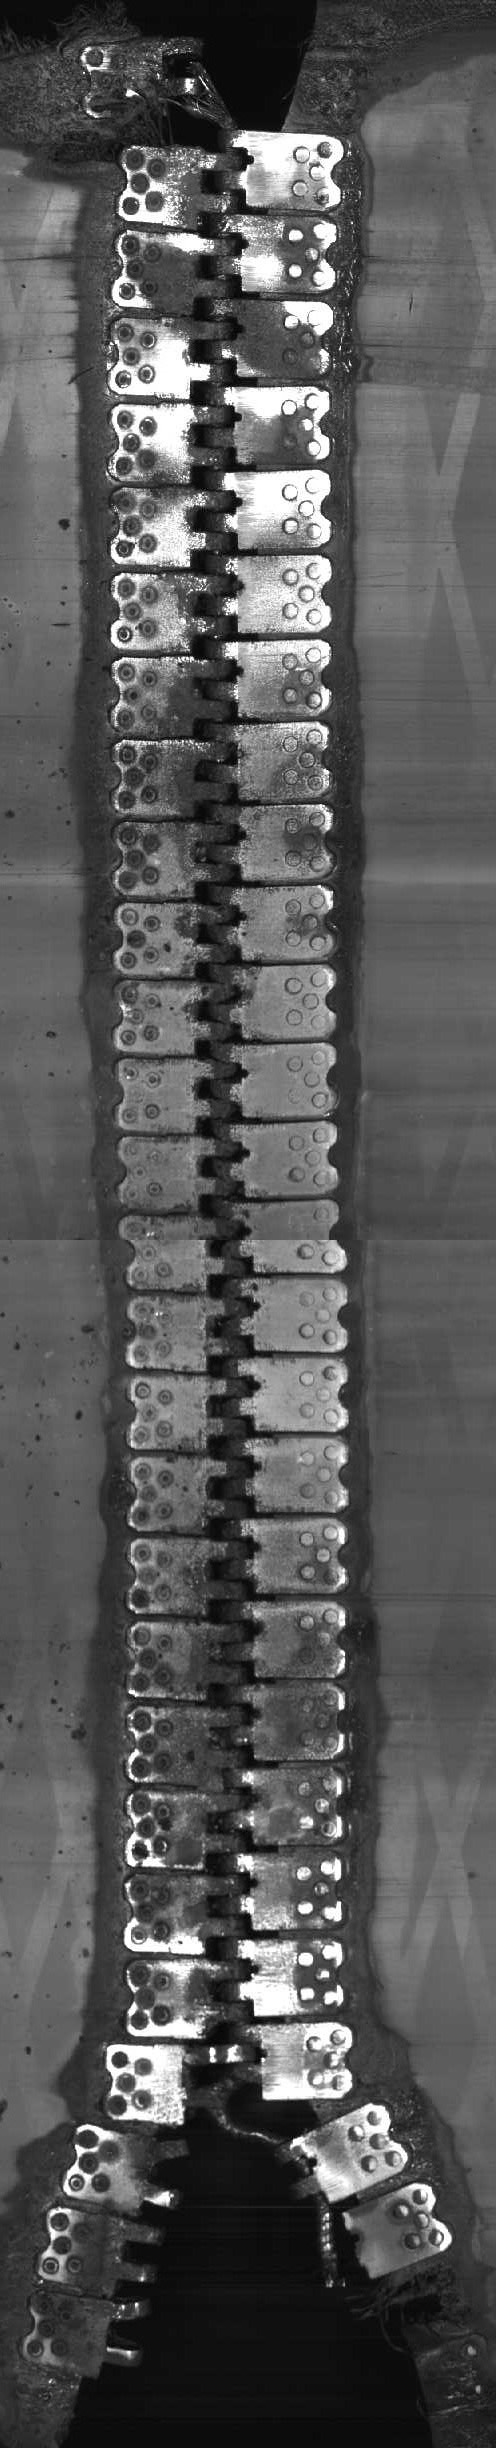damage: (115, 2050, 367, 2272), (94, 19, 338, 131)
splice: (55, 6, 463, 2268)
